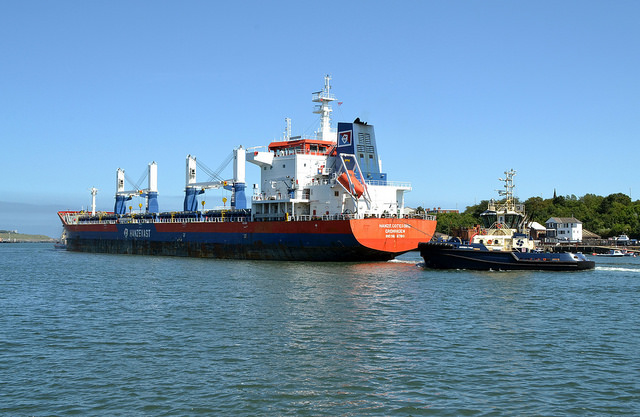bulk carrier: (58, 72, 430, 265)
tug_boat: (419, 163, 599, 274)
